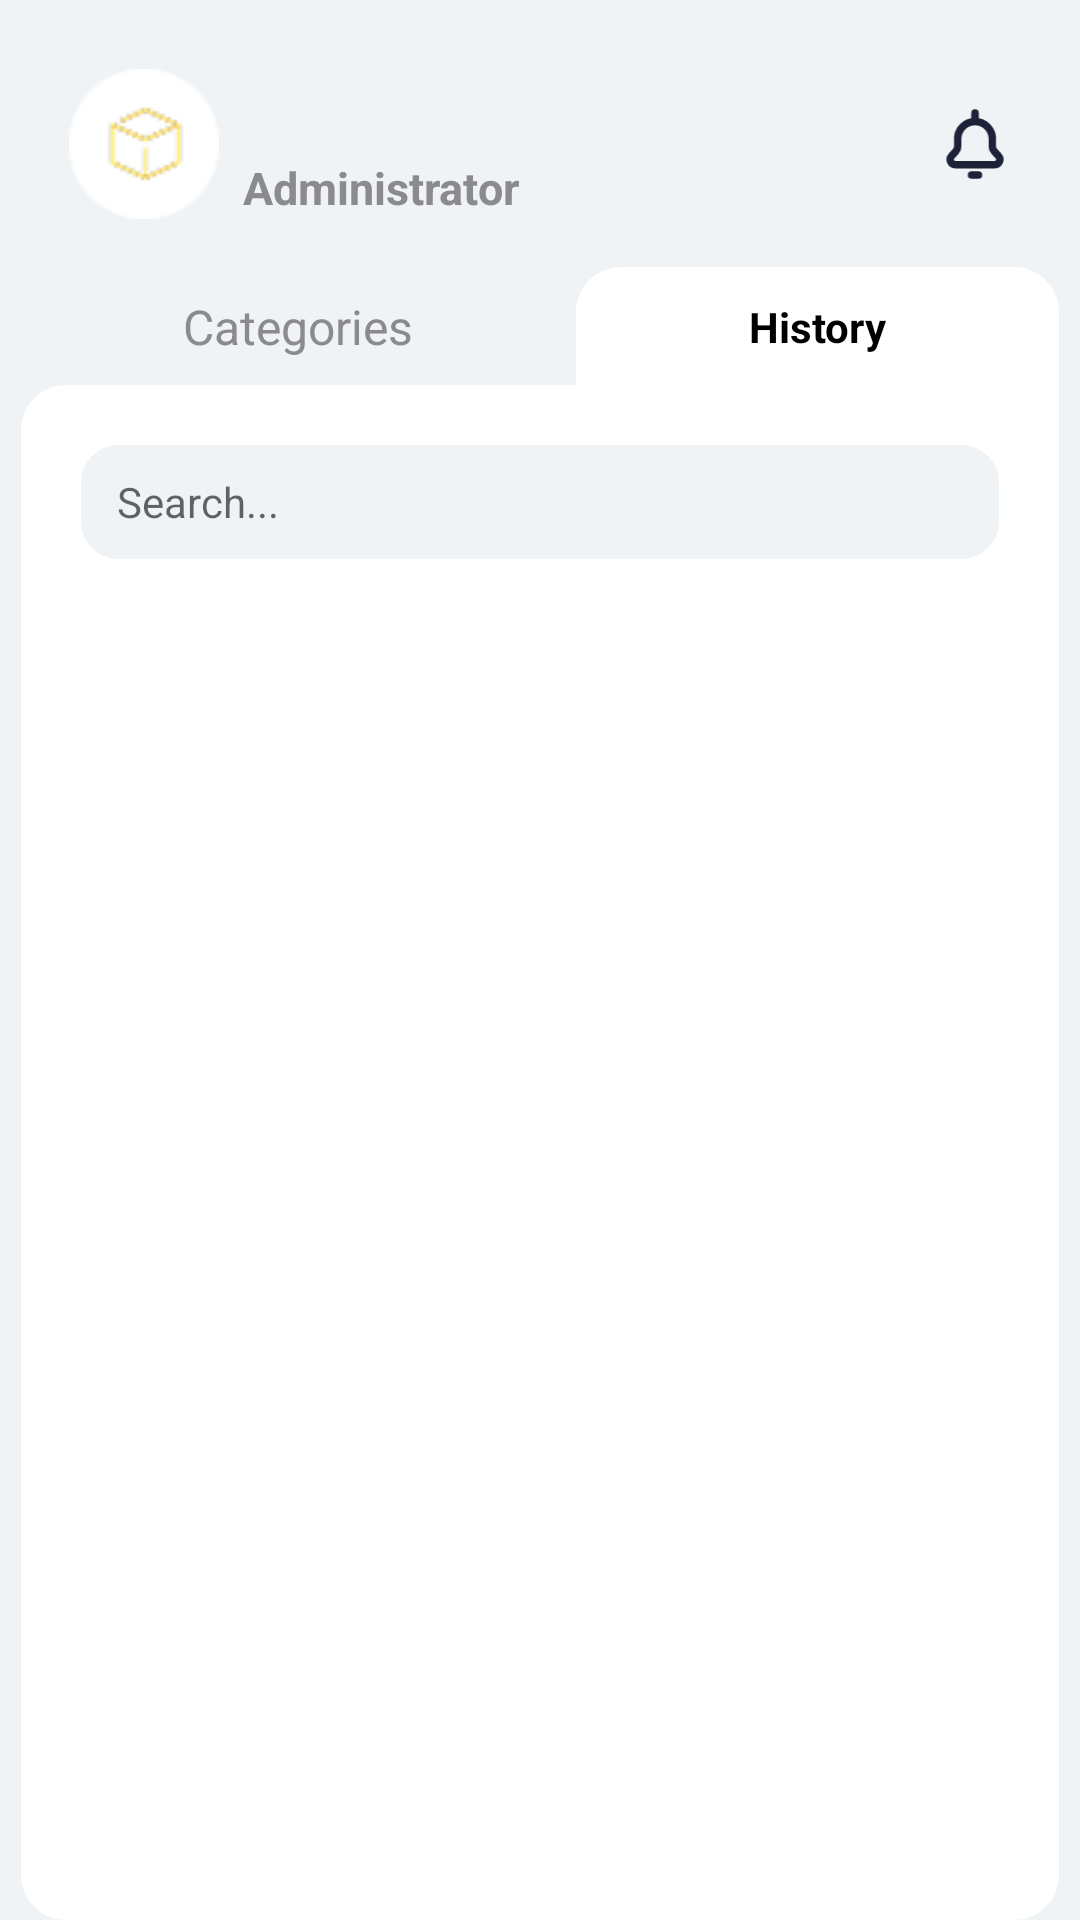

Named icons in this screenshot (1080*1920) and their bounding boxes, rect(x1, y1, x2, y2):
bell: rect(946, 109, 1004, 179)
